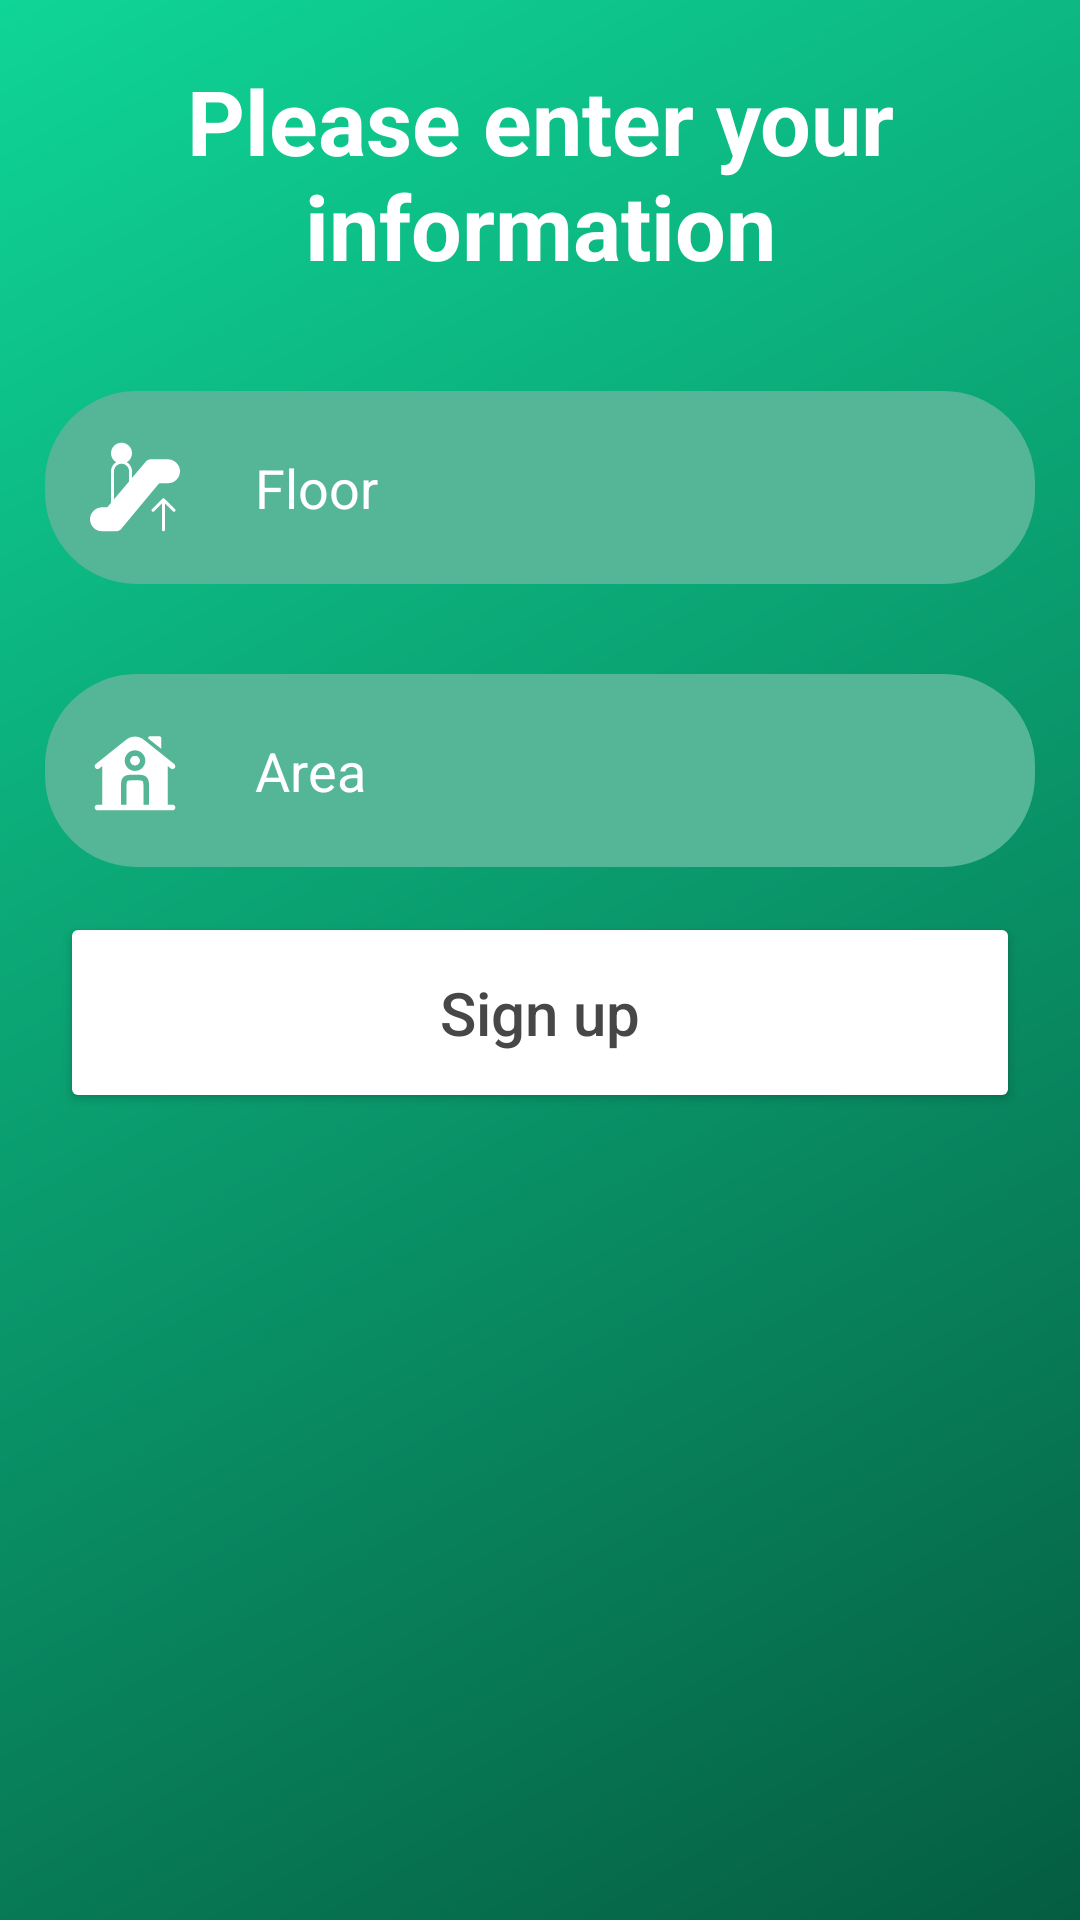

Screen size 1080w x 1920h. Icon name, then its box in pixels as (x1, y1, x2, y2):
home: (94, 736, 176, 811)
stairs: (90, 442, 180, 532)
